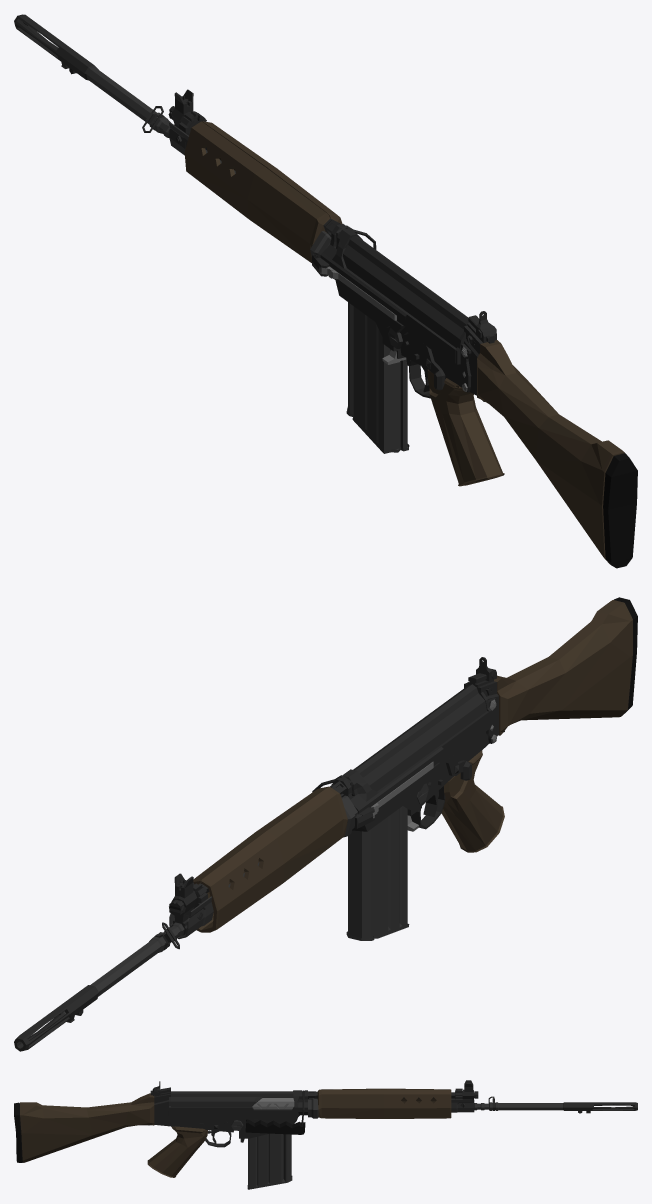
The model's file is L1A1_aussie.glb.
The picture shows the model from 3 angles, top to bottom: view 1: azimuth 30°, elevation 25°; view 2: azimuth 150°, elevation 25°; view 3: azimuth 270°, elevation 25°; orthographic projection. The views are drawn at different scales.
Parts seen in each view (by area): view 1: buttstock, handguards.001, mag_20rnd, dust_cover, pistol_grip, upper, lower, flash_hider, barrel; view 2: buttstock, handguards.001, mag_20rnd, dust_cover, upper, pistol_grip, flash_hider, lower, barrel, gas_block, front_guard; view 3: buttstock, handguards.001, mag_20rnd, upper, dust_cover, pistol_grip, lower, carryhandle, barrel, flash_hider, bolt:_carrier, front_guard (+2 smaller).
Part boxes in pixels (x1=…): buttstock: x1=477, y1=340, x2=637, y2=568; handguards.001: x1=184, y1=121, x2=342, y2=262; mag_20rnd: x1=346, y1=302, x2=409, y2=453; dust_cover: x1=343, y1=236, x2=469, y2=347; pistol_grip: x1=427, y1=369, x2=504, y2=486; upper: x1=320, y1=224, x2=458, y2=368; lower: x1=400, y1=325, x2=484, y2=401; flash_hider: x1=14, y1=14, x2=98, y2=80; barrel: x1=86, y1=67, x2=235, y2=173; buttstock: x1=494, y1=597, x2=637, y2=735; handguards.001: x1=193, y1=786, x2=347, y2=932; mag_20rnd: x1=346, y1=806, x2=409, y2=940; dust_cover: x1=353, y1=684, x2=486, y2=791; upper: x1=331, y1=711, x2=489, y2=831; pistol_grip: x1=441, y1=750, x2=504, y2=852; flash_hider: x1=14, y1=985, x2=98, y2=1051; lower: x1=422, y1=681, x2=504, y2=805; barrel: x1=63, y1=862, x2=259, y2=1014; gas_block: x1=171, y1=873, x2=197, y2=935; front_guard: x1=169, y1=896, x2=213, y2=939; buttstock: x1=14, y1=1093, x2=154, y2=1162; handguards.001: x1=317, y1=1088, x2=451, y2=1118; mag_20rnd: x1=247, y1=1133, x2=292, y2=1189; upper: x1=171, y1=1090, x2=307, y2=1138; dust_cover: x1=171, y1=1091, x2=293, y2=1106; pistol_grip: x1=147, y1=1126, x2=207, y2=1177; lower: x1=148, y1=1093, x2=233, y2=1132; carryhandle: x1=245, y1=1090, x2=305, y2=1134; barrel: x1=474, y1=1102, x2=563, y2=1110; flash_hider: x1=563, y1=1102, x2=637, y2=1113; bolt:_carrier: x1=252, y1=1098, x2=294, y2=1109; front_guard: x1=451, y1=1098, x2=474, y2=1112.
Bounding box in the file's own units: 0.063 × 0.2072 × 1.12.
